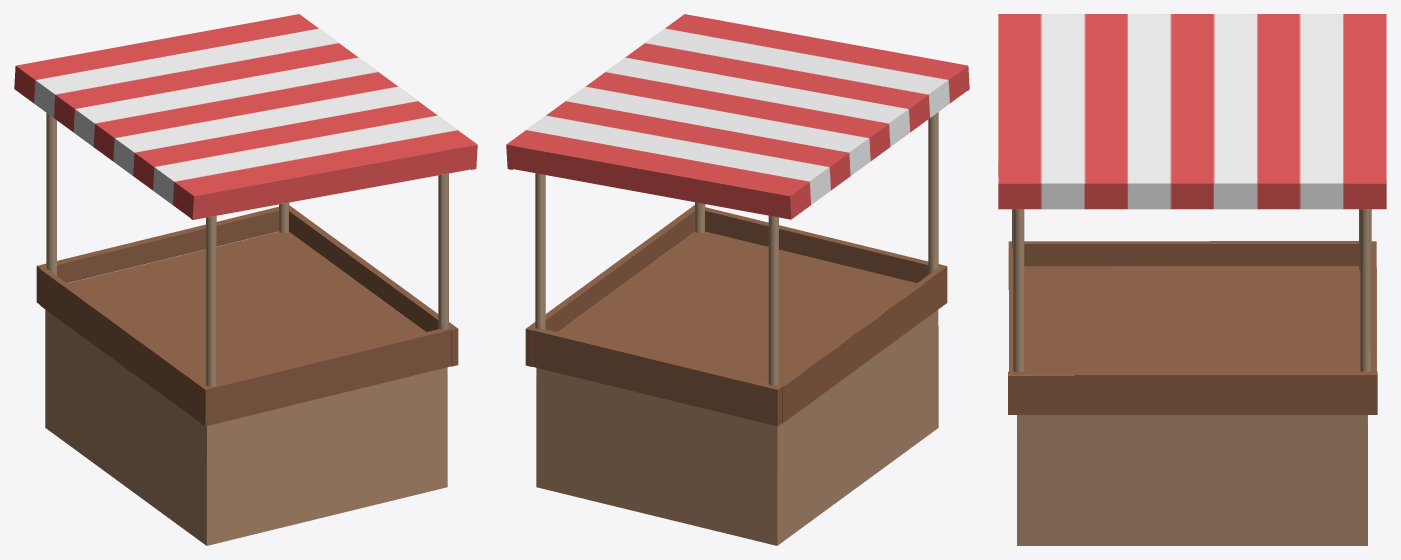
File: STALL #1.fbx
The picture shows the model from 3 angles, left to right: view 1: azimuth 30°, elevation 25°; view 2: azimuth 150°, elevation 25°; view 3: azimuth 270°, elevation 25°; orthographic projection. The views are drawn at different scales.
Parts seen in each view (by area): view 1: ST1; view 2: ST1; view 3: ST1.
Part boxes in pixels (x1=…): ST1: x1=14, y1=14, x2=477, y2=545; ST1: x1=506, y1=14, x2=969, y2=545; ST1: x1=998, y1=14, x2=1386, y2=545.
Size of the model in its own units: 405 by 490 by 439.
1 material, 1 textured.
